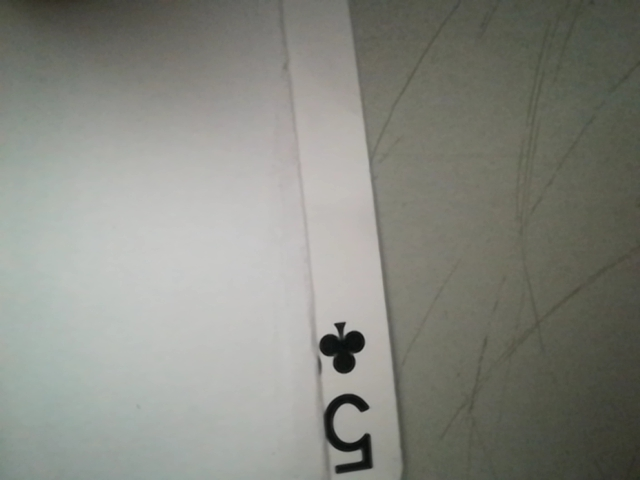mh 5: (312, 316, 394, 476)
